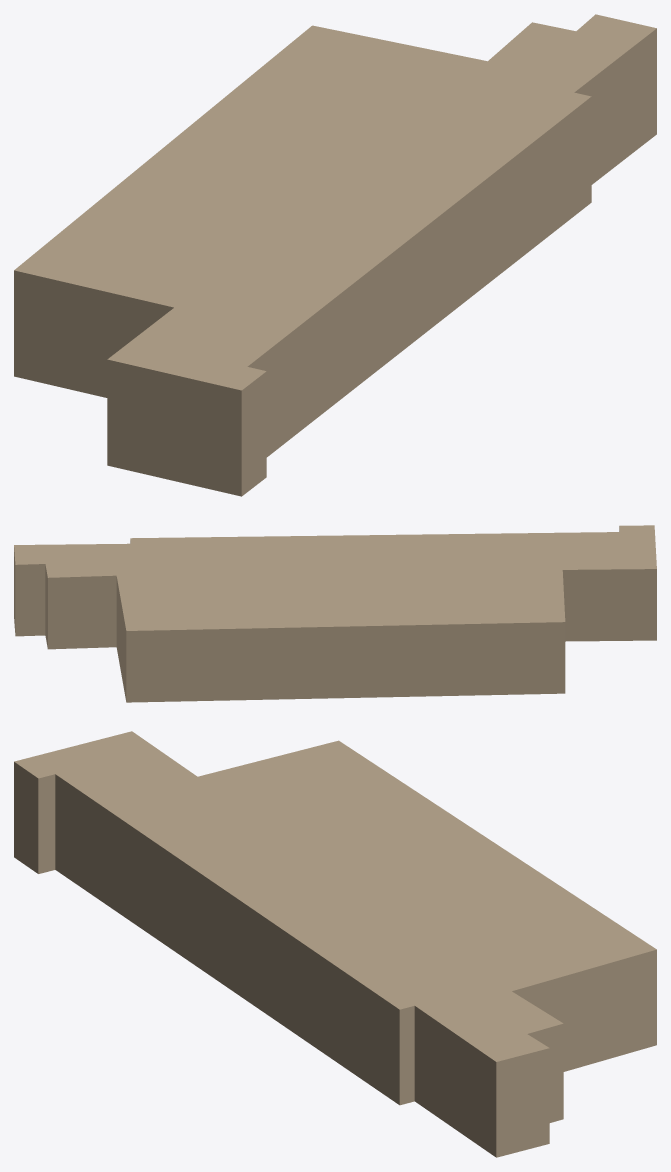
Rendered from bld_486082978.dae.
3 renders of one model, top to bottom at view 1: azimuth 30°, elevation 25°; view 2: azimuth 150°, elevation 25°; view 3: azimuth 270°, elevation 25°, orthographic. The views are drawn at different scales.
Parts seen in each view (by area): view 1: bld_486082978; view 2: bld_486082978; view 3: bld_486082978.
Boxes of the visible parts, x1=… form: bld_486082978: x1=14, y1=14, x2=656, y2=496; bld_486082978: x1=14, y1=525, x2=656, y2=702; bld_486082978: x1=14, y1=731, x2=656, y2=1157.
Size of the model in its own units: 88.96 by 73.06 by 12.
